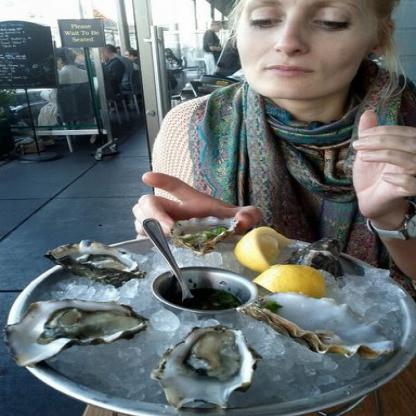oyster: (245, 292, 401, 366), (3, 297, 136, 368), (154, 318, 252, 408), (52, 239, 147, 286)
